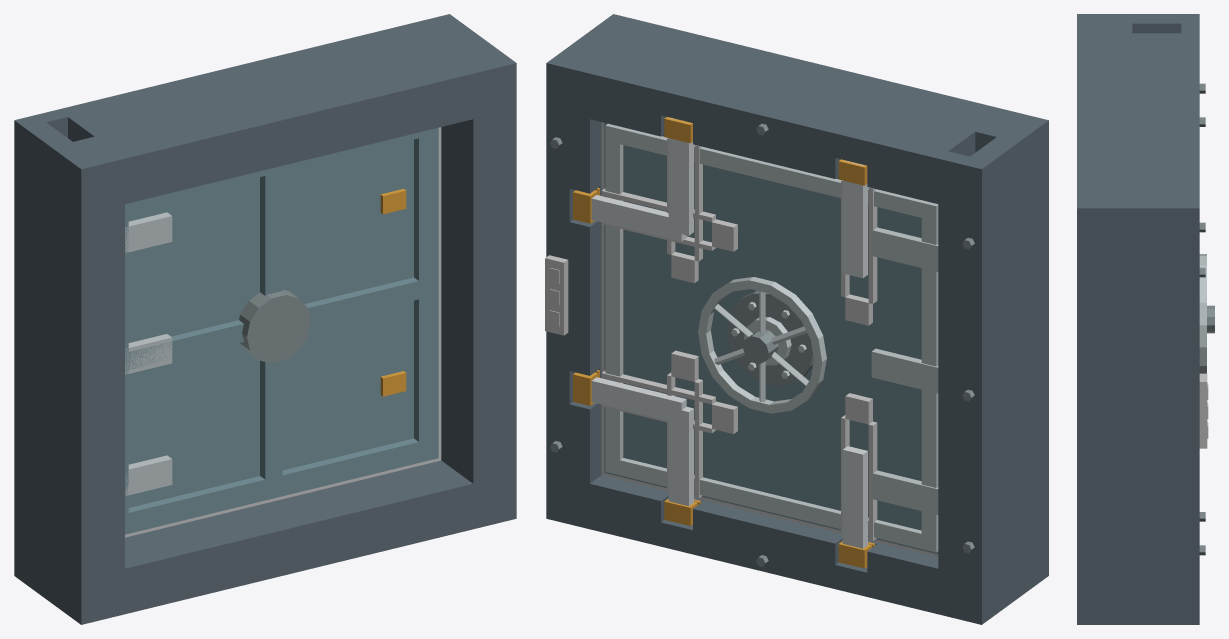
The model's file is body.obj.
The picture shows the model from 3 angles, left to right: view 1: azimuth 30°, elevation 25°; view 2: azimuth 150°, elevation 25°; view 3: azimuth 270°, elevation 25°; orthographic projection. The views are drawn at different scales.
Size of the model in its own units: 3 by 3 by 0.9.
